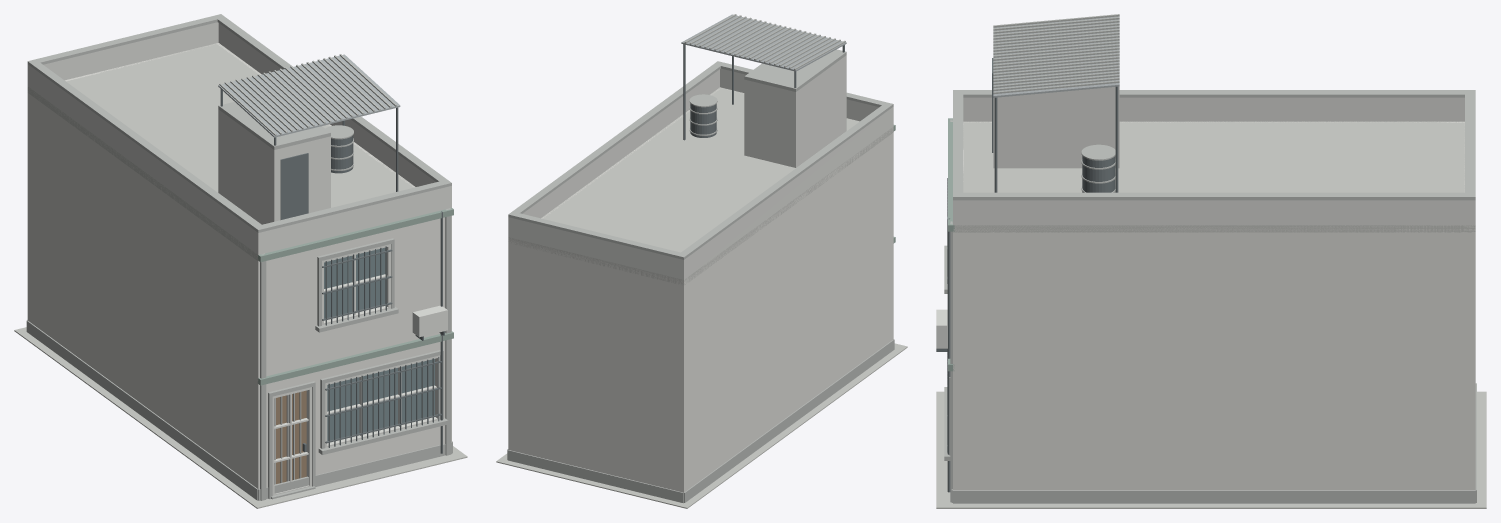
The model's file is 01_narrow.glb.
3 views of the same model, side by side, from view 1: azimuth 30°, elevation 25°; view 2: azimuth 150°, elevation 25°; view 3: azimuth 270°, elevation 25° (orthographic). The views are drawn at different scales.
Visible parts, largest first — view 1: wall_12, wall_13, roof_slab_11, parapet_0, parapet_cap_2, window_panel_4, rooftop_room_0, canopy_sheet_8, plinth_2, corrugation_2, security_bar_5, lot_paving_11 (+18 smaller); view 2: wall_12, wall_15, roof_slab_11, parapet_0, rooftop_room_0, parapet_cap_2, plinth_2, corrugation_2, canopy_sheet_8, lot_paving_11, wall_14, rooftop_room_cap_2 (+2 smaller); view 3: wall_14, roof_slab_11, parapet_0, parapet_cap_2, corrugation_2, rooftop_room_0, plinth_2, lot_paving_11, canopy_sheet_8, wall_13, water_tank_5, wall_15 (+5 smaller).
Part boxes in pixels (bbox=[...]): wall_12: bbox=[27, 88, 266, 488]; wall_13: bbox=[253, 216, 451, 488]; roof_slab_11: bbox=[27, 43, 415, 261]; parapet_0: bbox=[27, 22, 451, 254]; parapet_cap_2: bbox=[27, 14, 451, 232]; window_panel_4: bbox=[324, 247, 434, 440]; rooftop_room_0: bbox=[218, 109, 330, 224]; canopy_sheet_8: bbox=[218, 54, 400, 137]; plinth_2: bbox=[26, 320, 452, 500]; corrugation_2: bbox=[219, 54, 396, 135]; security_bar_5: bbox=[325, 246, 439, 447]; lot_paving_11: bbox=[14, 327, 467, 508]; wall_12: bbox=[676, 127, 893, 492]; wall_15: bbox=[508, 238, 688, 491]; roof_slab_11: bbox=[508, 87, 893, 285]; parapet_0: bbox=[508, 68, 893, 279]; rooftop_room_0: bbox=[744, 55, 846, 167]; parapet_cap_2: bbox=[508, 61, 893, 259]; plinth_2: bbox=[507, 339, 894, 503]; corrugation_2: bbox=[684, 14, 845, 69]; canopy_sheet_8: bbox=[681, 14, 846, 71]; lot_paving_11: bbox=[496, 343, 907, 508]; wall_14: bbox=[508, 87, 720, 449]; rooftop_room_cap_2: bbox=[744, 49, 846, 91]; wall_14: bbox=[953, 225, 1475, 490]; roof_slab_11: bbox=[953, 121, 1475, 232]; parapet_0: bbox=[953, 97, 1475, 225]; parapet_cap_2: bbox=[953, 90, 1475, 200]; corrugation_2: bbox=[993, 14, 1119, 94]; rooftop_room_0: bbox=[993, 86, 1119, 168]; plinth_2: bbox=[951, 383, 1476, 503]; lot_paving_11: bbox=[936, 391, 1486, 508]; canopy_sheet_8: bbox=[993, 16, 1119, 97]; wall_13: bbox=[953, 123, 963, 466]; water_tank_5: bbox=[1082, 156, 1115, 192]; wall_15: bbox=[1464, 147, 1475, 490].
Bounding box in the file's own units: 5 × 8.07 × 10.
